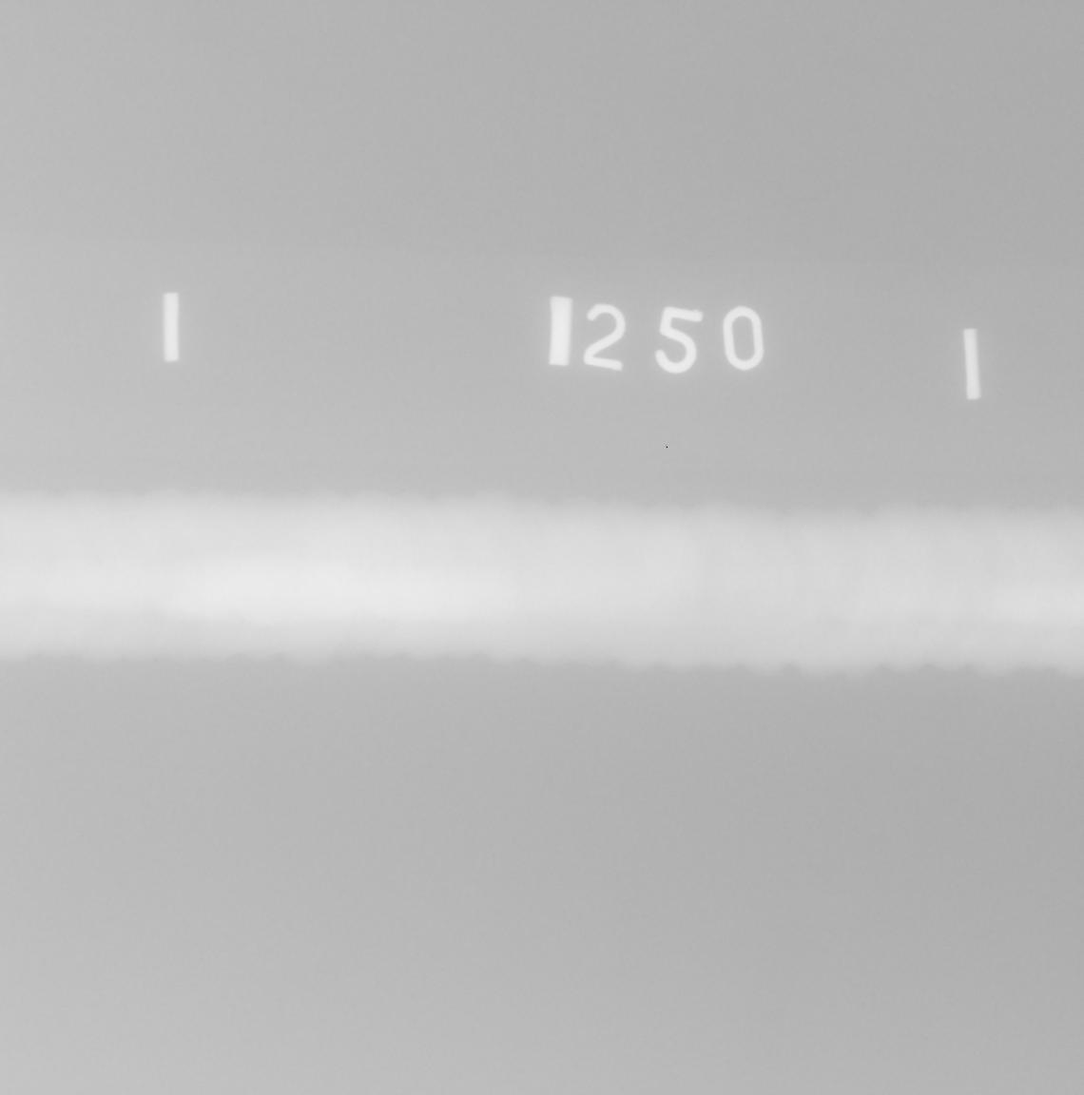Inclusion: (705, 599, 711, 606)
